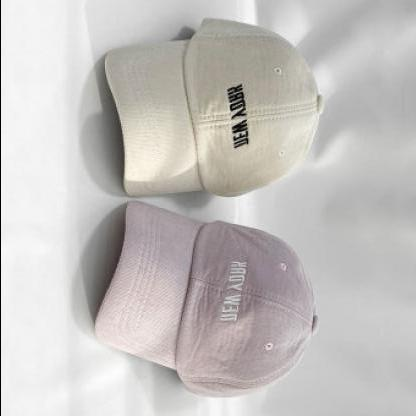cap: (98, 15, 332, 212), (93, 201, 320, 399)
